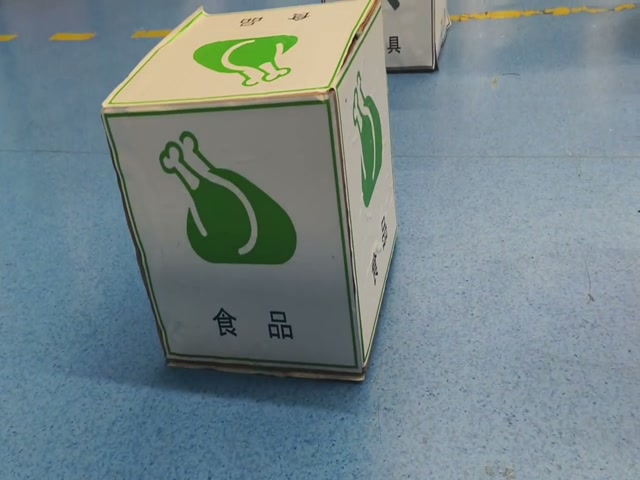Cube_food: (105, 2, 381, 107)
